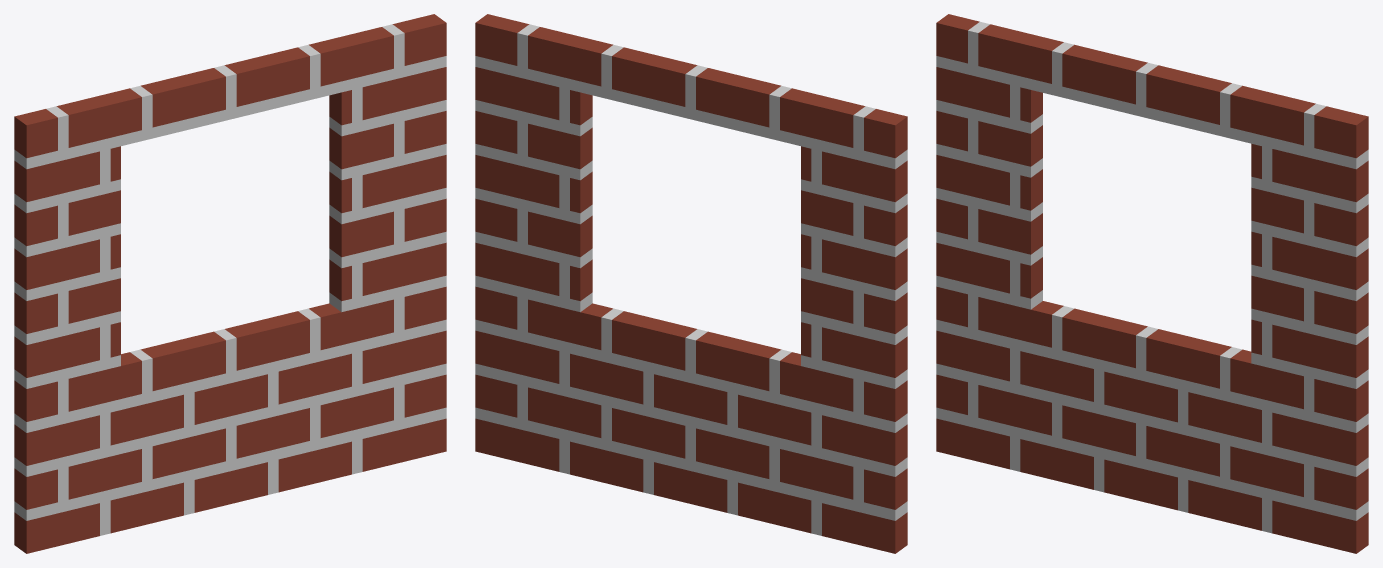
The model's file is ConstructionMaterials-37.obj.
3 views of the same model, side by side, from view 1: azimuth 30°, elevation 25°; view 2: azimuth 150°, elevation 25°; view 3: azimuth 330°, elevation 25° (orthographic).
Size of the model in its own units: 4 by 3.9 by 0.2.
1 material, 1 textured.
